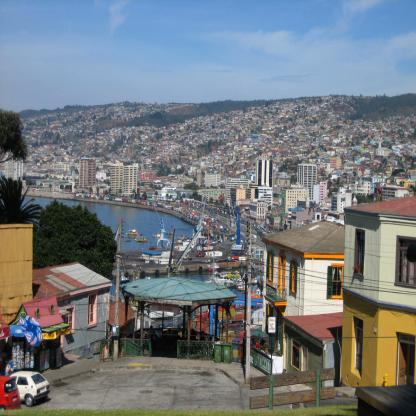Car: (9, 369, 52, 408), (0, 375, 22, 412)
